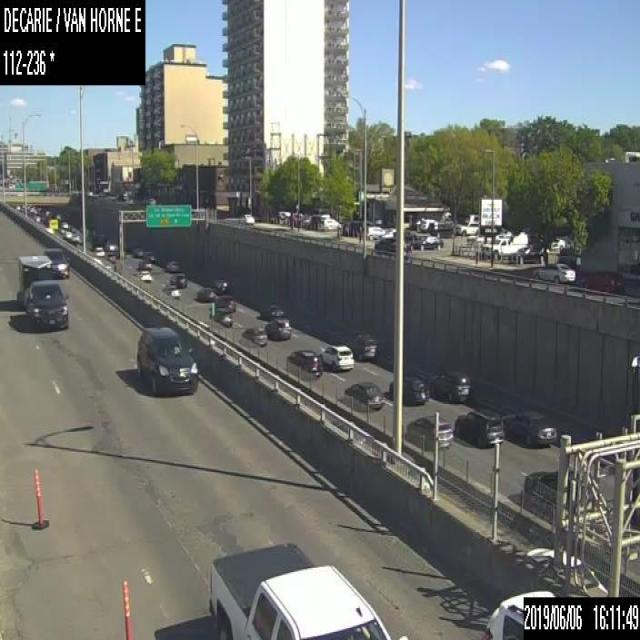construction: (31, 468, 50, 532), (121, 578, 133, 638)
vehicle: (207, 543, 410, 639), (524, 544, 608, 599), (136, 326, 198, 397), (16, 255, 68, 332), (481, 586, 556, 638), (453, 407, 504, 448), (502, 410, 557, 446), (404, 414, 452, 449), (388, 368, 428, 405), (428, 370, 472, 402), (343, 379, 385, 412), (522, 467, 559, 502), (284, 349, 322, 378), (580, 268, 625, 291), (319, 343, 353, 369), (532, 262, 575, 282), (350, 332, 378, 360), (375, 234, 410, 256), (43, 247, 68, 276), (480, 237, 512, 259), (508, 245, 545, 264), (263, 317, 290, 340), (412, 234, 443, 250), (241, 326, 266, 345), (209, 307, 232, 326), (260, 302, 284, 320), (214, 294, 235, 312), (430, 222, 454, 237), (455, 221, 479, 234), (210, 277, 228, 294), (366, 224, 384, 239), (169, 272, 186, 287), (196, 286, 214, 300), (320, 217, 340, 229), (162, 284, 180, 297), (166, 259, 181, 272), (419, 219, 435, 231), (138, 269, 152, 281), (137, 258, 151, 270), (239, 213, 254, 224), (551, 238, 564, 249), (464, 213, 478, 223), (48, 216, 58, 230), (143, 250, 154, 262), (131, 247, 142, 257), (94, 246, 105, 256), (106, 252, 115, 262), (278, 210, 290, 216), (70, 233, 78, 242), (63, 229, 71, 238), (60, 220, 67, 229)
